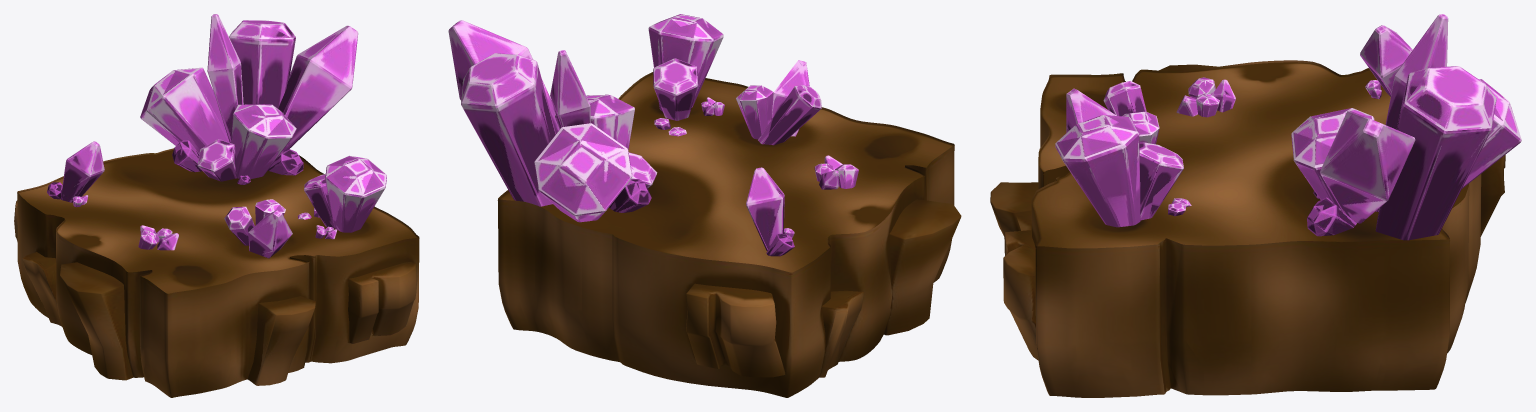
Rendered from land-A.glb.
3 renders of one model, left to right at view 1: azimuth 30°, elevation 25°; view 2: azimuth 150°, elevation 25°; view 3: azimuth 270°, elevation 25°, orthographic. The views are drawn at different scales.
Parts seen in each view (by area): view 1: Land; view 2: Land; view 3: Land.
Boxes of the visible parts, left/top/right/bottom form: Land: left=14, top=14, right=419, bottom=397; Land: left=448, top=14, right=961, bottom=397; Land: left=990, top=14, right=1521, bottom=397.
Bounding box in the file's own units: 10.39 × 6.83 × 9.54.
Materials: 1 (1 with a texture image).
